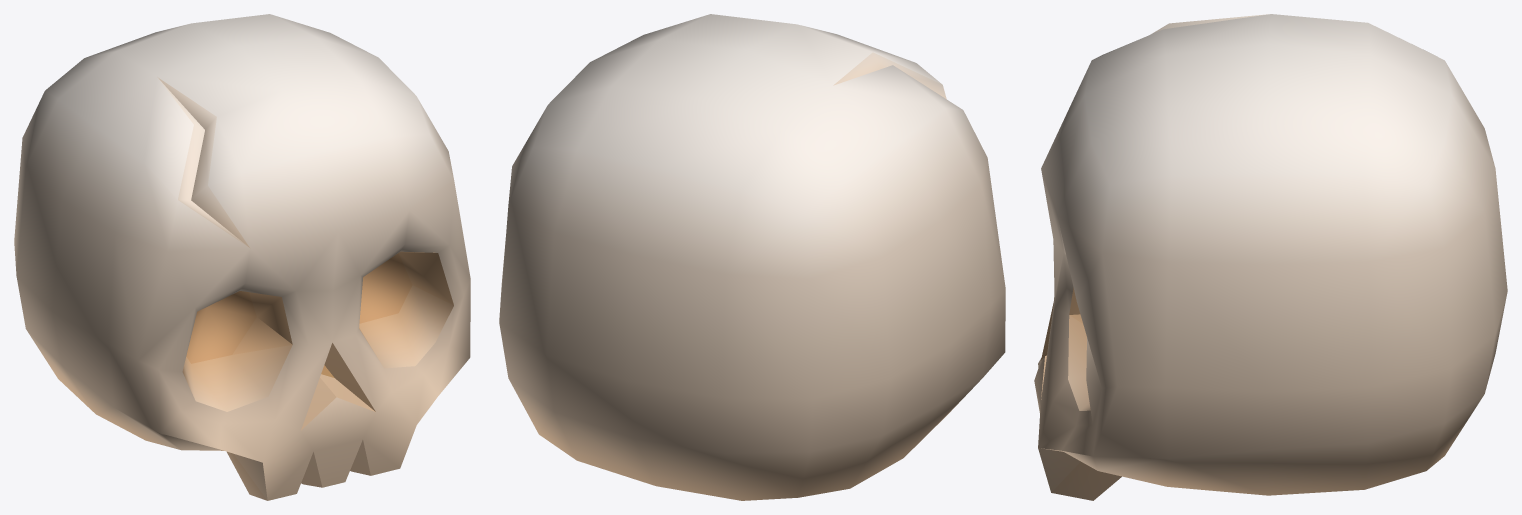
File: skull.glb
3 renders of one model, left to right at view 1: azimuth 30°, elevation 25°; view 2: azimuth 150°, elevation 25°; view 3: azimuth 270°, elevation 25°, orthographic. The views are drawn at different scales.
Visible parts, largest first — view 1: skull; view 2: skull; view 3: skull.
Part boxes in pixels (<box>): skull: <box>14,14,470,500</box>; skull: <box>499,14,1005,500</box>; skull: <box>1034,14,1507,500</box>.
Bounding box in the file's own units: 0.9176 × 0.8982 × 0.9072.
1 material, 1 textured.
